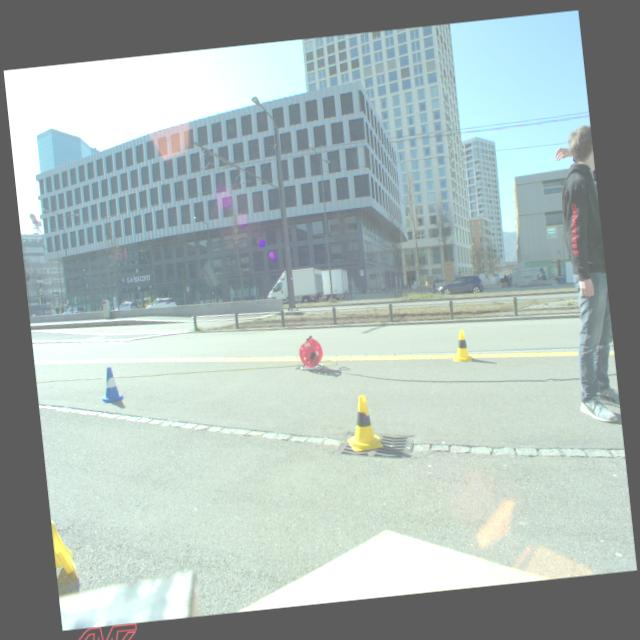blue_cone: (98, 365, 124, 403)
yellow_cone: (342, 393, 383, 452), (450, 329, 472, 363)
